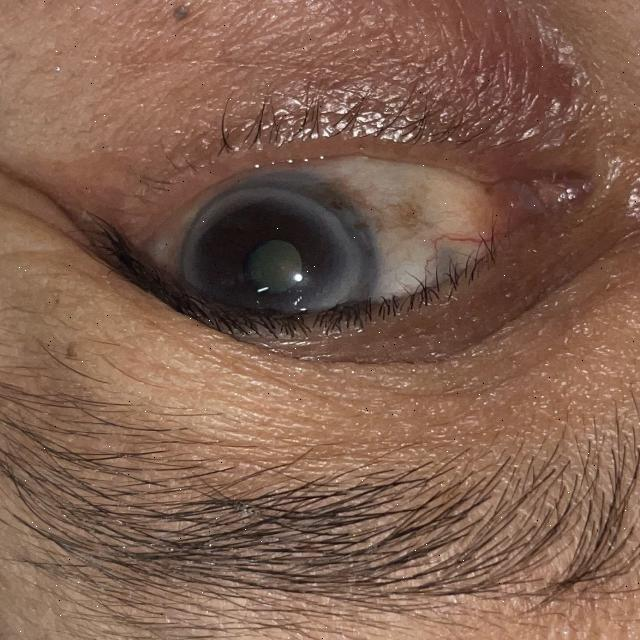Cataract: (182, 174, 378, 348)
